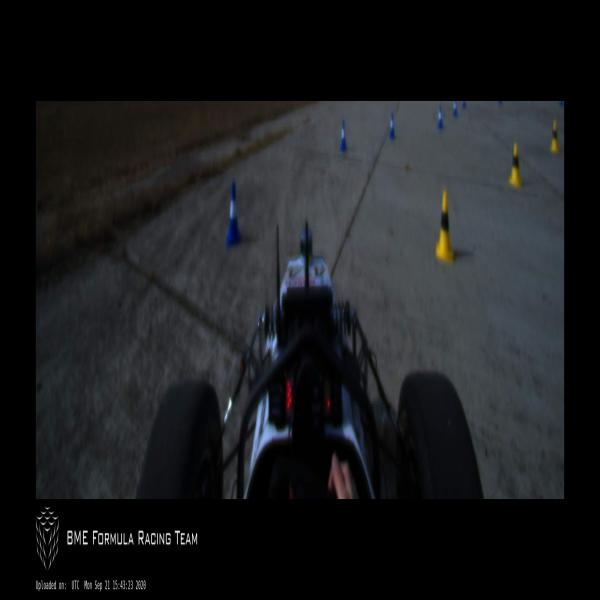blue_cone: (226, 181, 241, 247), (341, 121, 347, 153), (389, 112, 395, 142), (438, 106, 444, 131), (453, 101, 457, 118)
yellow_cone: (435, 190, 455, 266), (509, 142, 523, 188), (550, 120, 560, 154)
